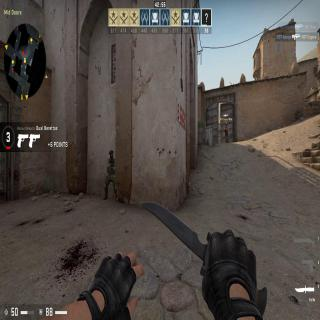CT-Body: (103, 149, 119, 202)
CT-Head: (108, 150, 114, 158)
